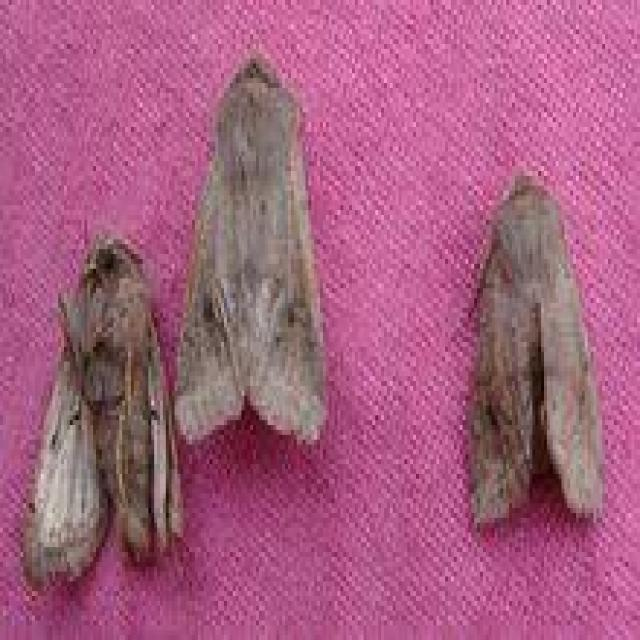BeetArmyWorm-Adult-: (160, 34, 356, 475), (15, 196, 200, 598), (456, 145, 616, 537)
